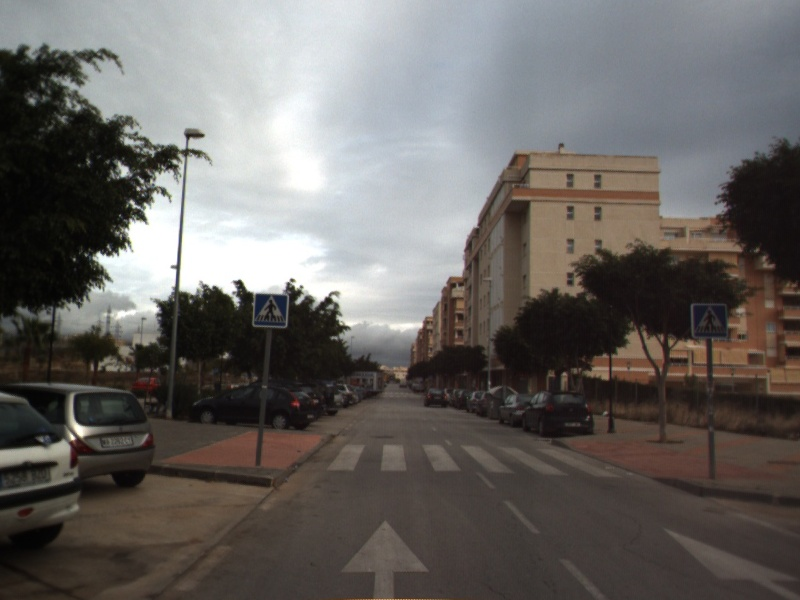STRAIGHT: (656, 521, 800, 598), (338, 518, 432, 600)
